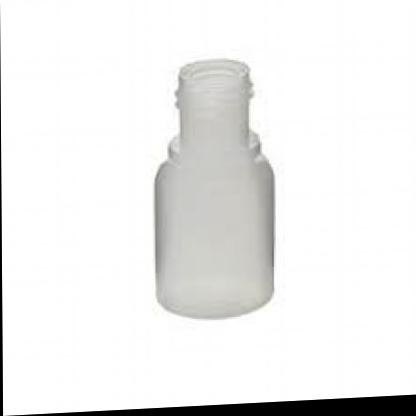trash: (155, 59, 273, 317)
